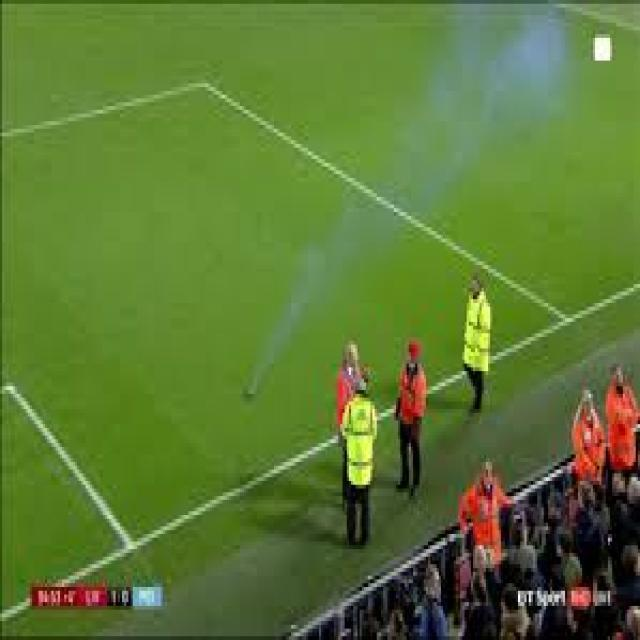Smoke: (248, 0, 570, 399)
